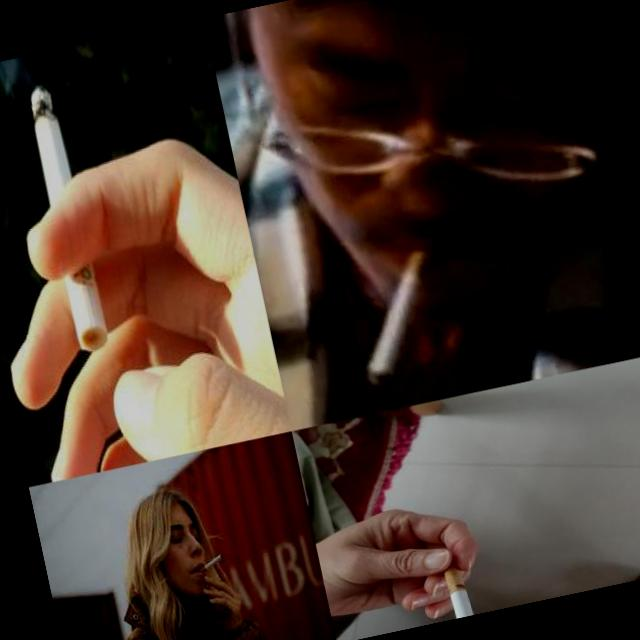cigarette: (22, 79, 111, 352), (331, 229, 458, 389), (440, 558, 481, 618), (197, 552, 226, 573)
